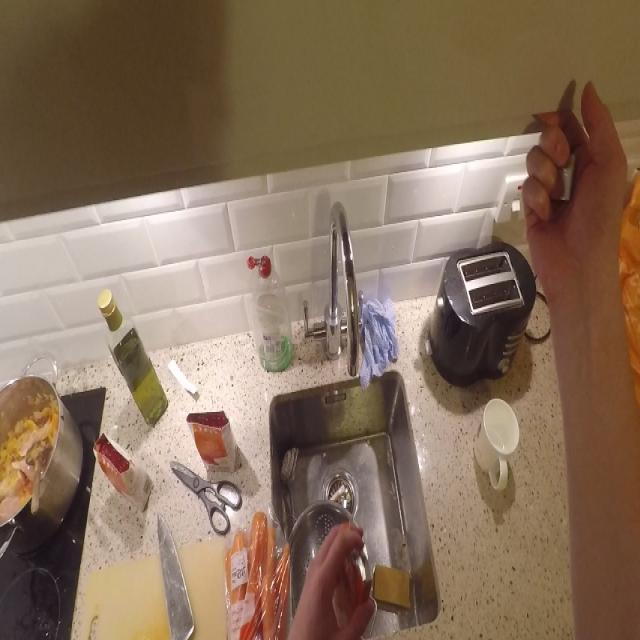carrot: (223, 517, 288, 640)
dish soap: (248, 245, 291, 373)
knife: (154, 510, 202, 640)
left hand: (297, 511, 372, 640)
mug: (475, 394, 519, 502)
oil: (94, 278, 170, 430)
pot: (0, 366, 84, 538)
right hand: (518, 87, 634, 342)
scissor: (169, 455, 242, 532)
tap: (297, 198, 366, 383)
toaster: (428, 241, 536, 384)
